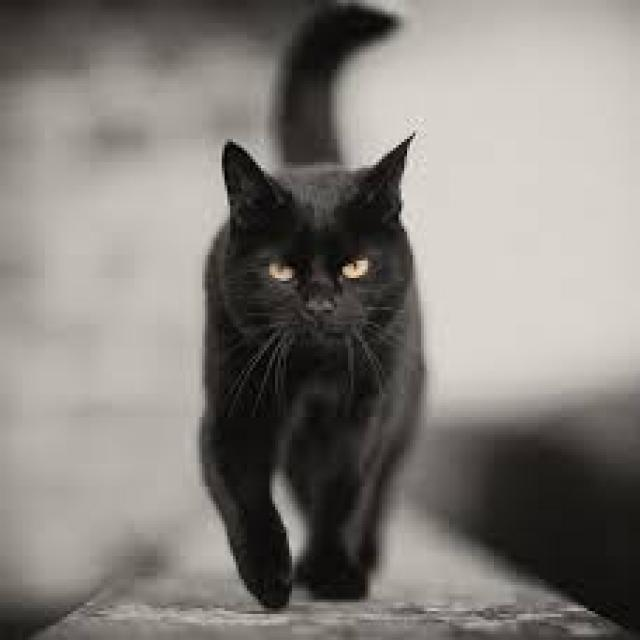black cat: (135, 0, 475, 614)
